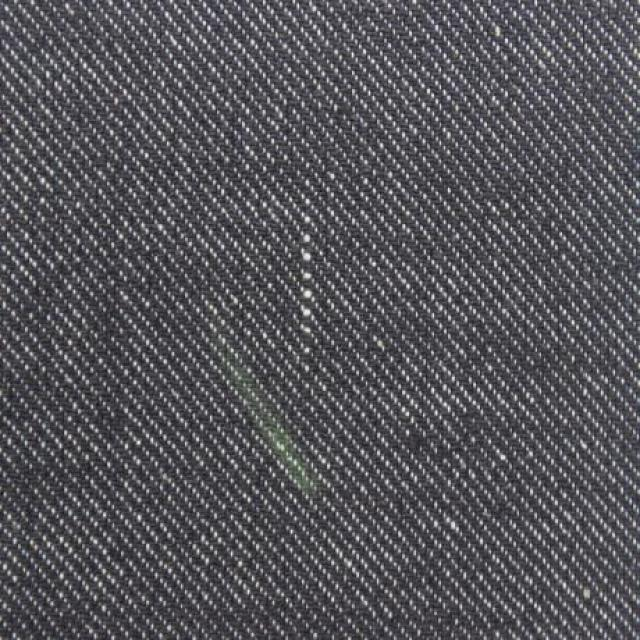stains: (268, 176, 350, 368)
